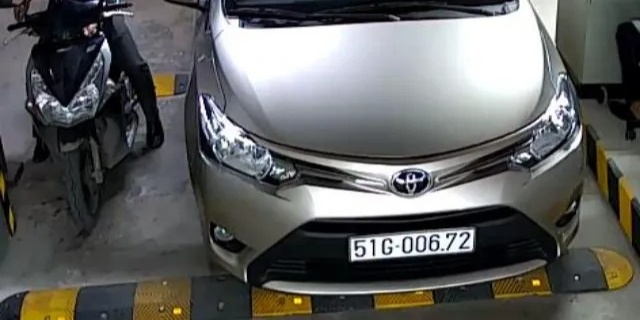bien_so: (351, 231, 472, 258)
